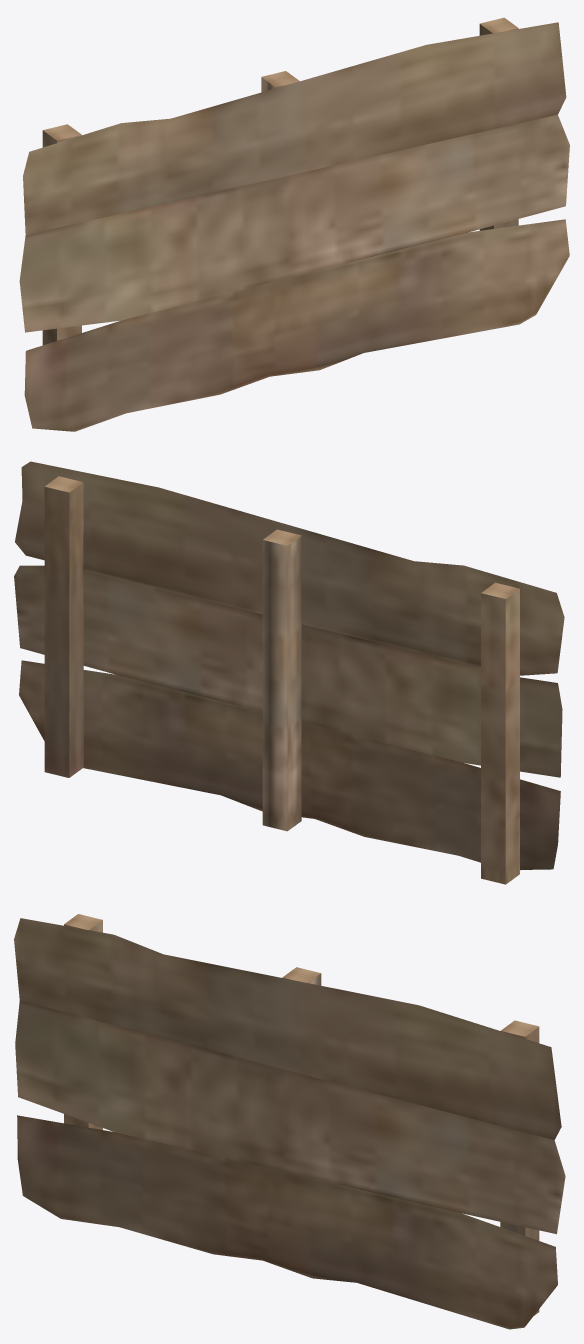
The model's file is sign.small.wood.static.glb.
The picture shows the model from 3 angles, top to bottom: view 1: azimuth 30°, elevation 25°; view 2: azimuth 150°, elevation 25°; view 3: azimuth 330°, elevation 25°; orthographic projection.
Parts seen in each view (by area): view 1: sign.wood.2x1_LOD1_Flat; view 2: sign.wood.2x1_LOD1_Flat; view 3: sign.wood.2x1_LOD1_Flat.
Boxes of the visible parts, x1,y1,x2,y2 form: sign.wood.2x1_LOD1_Flat: (19,17,569,431); sign.wood.2x1_LOD1_Flat: (14,461,564,884); sign.wood.2x1_LOD1_Flat: (14,914,565,1329).
Bounding box in the file's own units: 1.01 × 0.5301 × 0.0782.
1 material, 1 textured.
